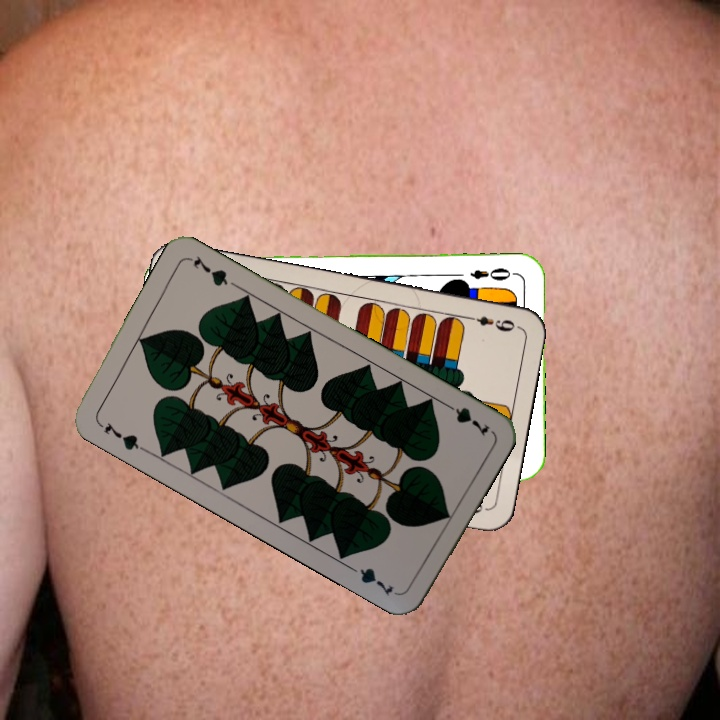E9: (461, 311, 518, 334)
EO: (466, 263, 518, 283)
G7: (439, 398, 492, 439), (94, 417, 147, 454)
